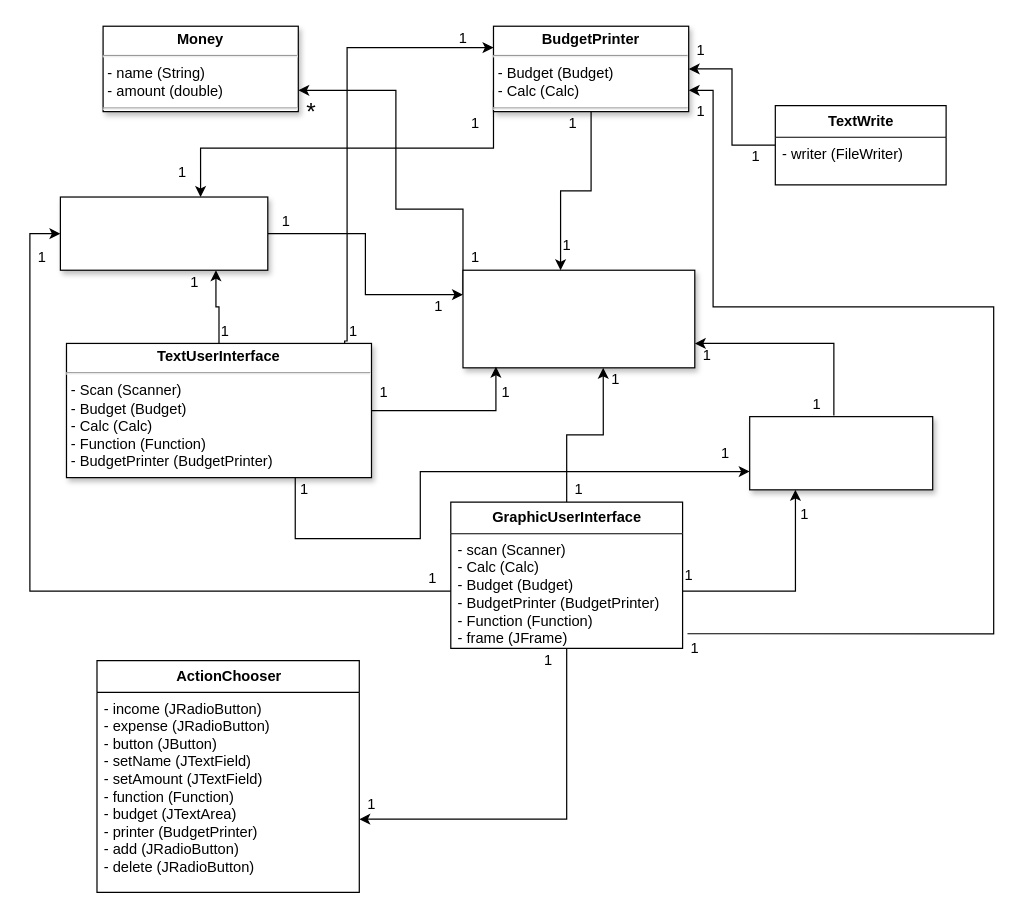
Image size: 1025x917. Some labels were removed from this diagram. Each missing label, with the centre of its shape:
Budget -name (String) -income (ArrayList) -expense (ArrayList): (579,320)
Calc - Budget (Budget): (164,235)
Function - Budget (Budget): (842,454)
